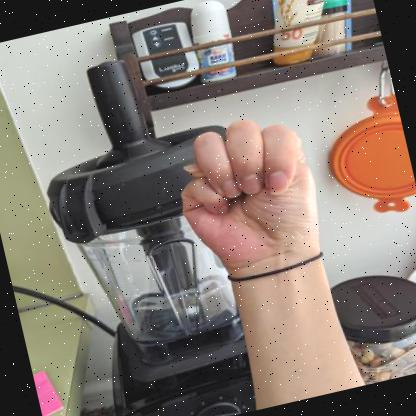M: (181, 119, 322, 274)
